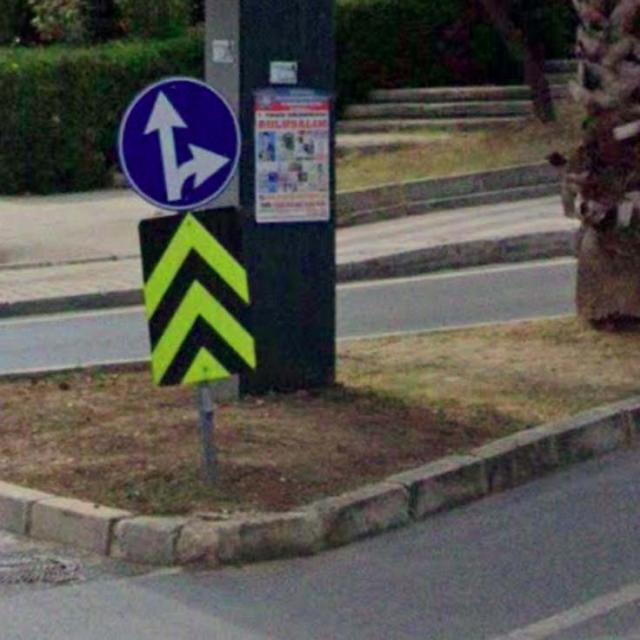ilerisag: (118, 74, 242, 210)
